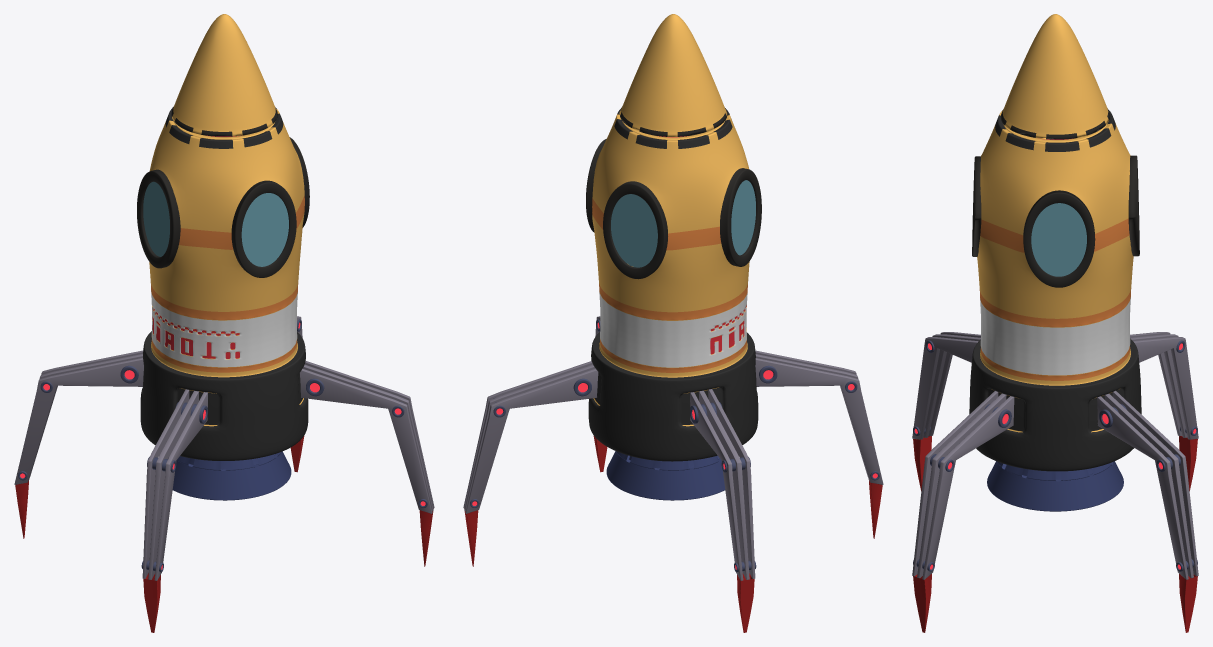
File: rocket2.glb
3 views of the same model, side by side, from view 1: azimuth 30°, elevation 25°; view 2: azimuth 150°, elevation 25°; view 3: azimuth 270°, elevation 25° (orthographic). The views are drawn at different scales.
Parts seen in each view (by area): view 1: Circle.001; view 2: Circle.001; view 3: Circle.001.
Boxes of the visible parts, x1,y1,x2,y2 form: Circle.001: (14,14,434,632); Circle.001: (463,14,883,632); Circle.001: (912,14,1198,632).
Size of the model in its own units: 7.08 by 12.47 by 5.88.
